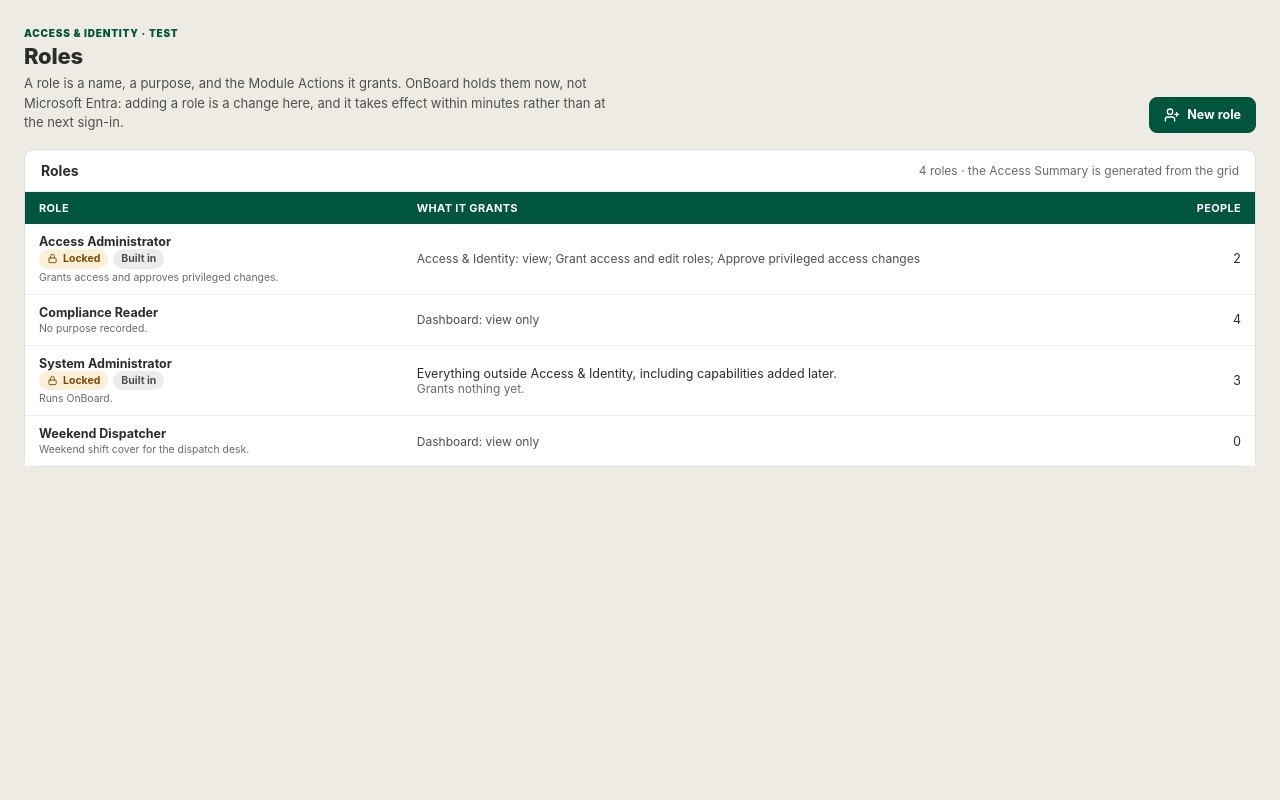
Roles › writes the access summary from the grid as the boxes are ticked
Click the button "Weekend Dispatcher": x=103, y=434 [39,426,166,441]
(page scrolled)
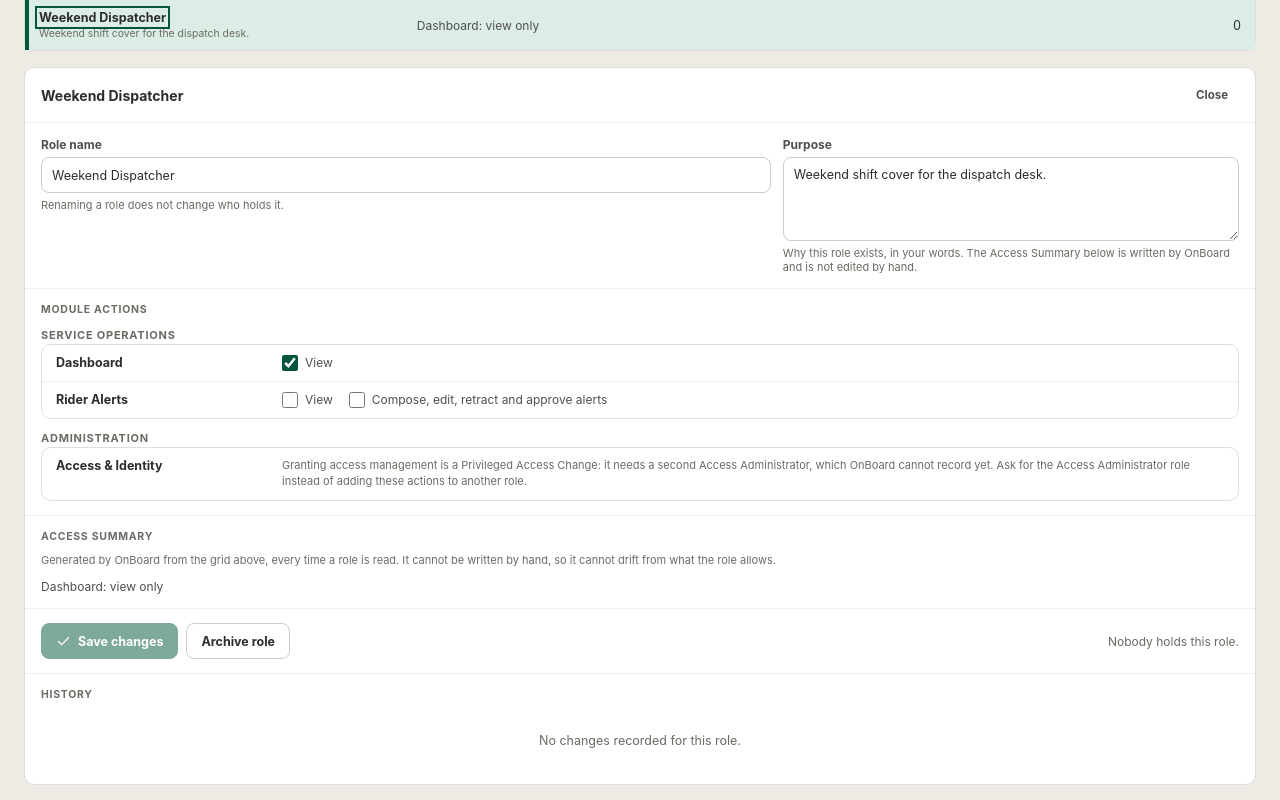
Now the list item "Dashboard: view only" below "Administration" is shown, box [41,579,163,594]
Click the checkbox labelled "View" next to "Rider Alerts": x=290, y=400 [282,392,298,408]
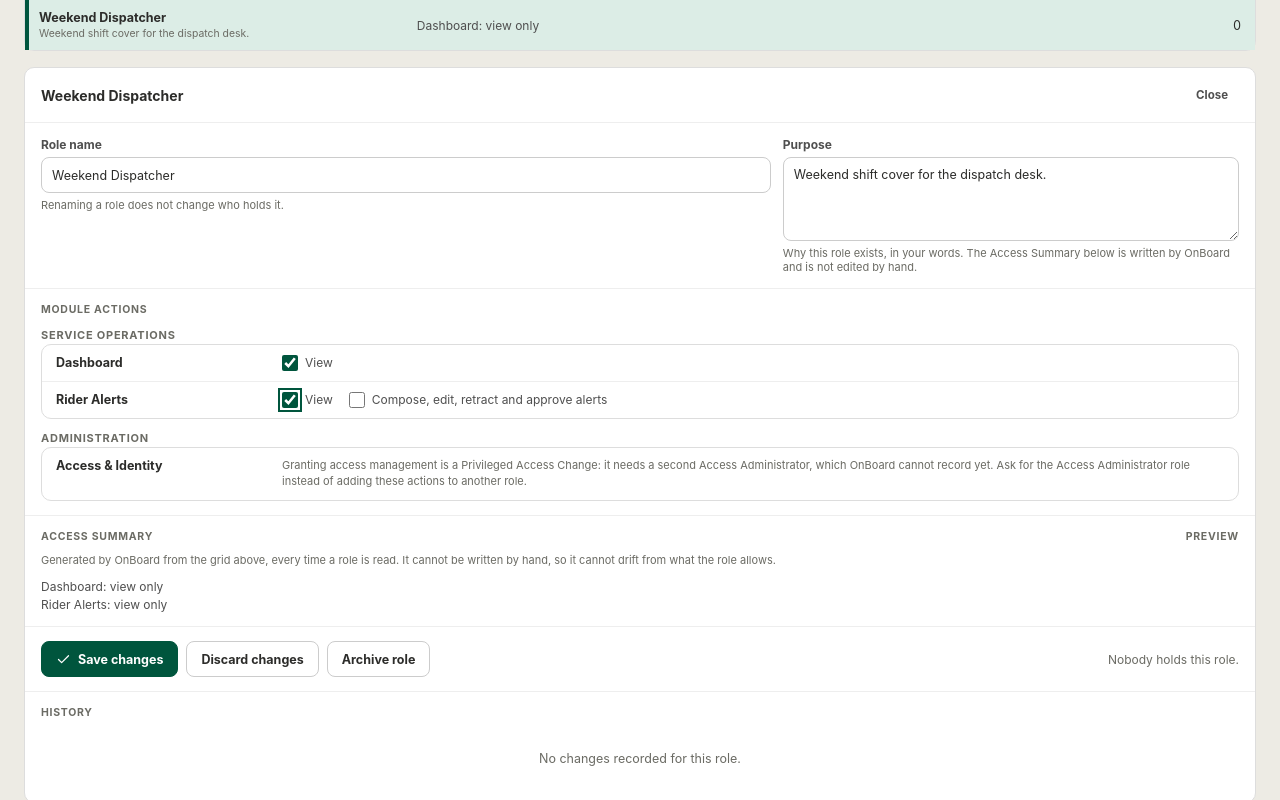
Now the list item "Rider Alerts: view only" is shown, box [41,597,167,612]
Click the checkbox labelled "Compose, edit, retract and approve alerts": x=357, y=400 [349,392,365,408]
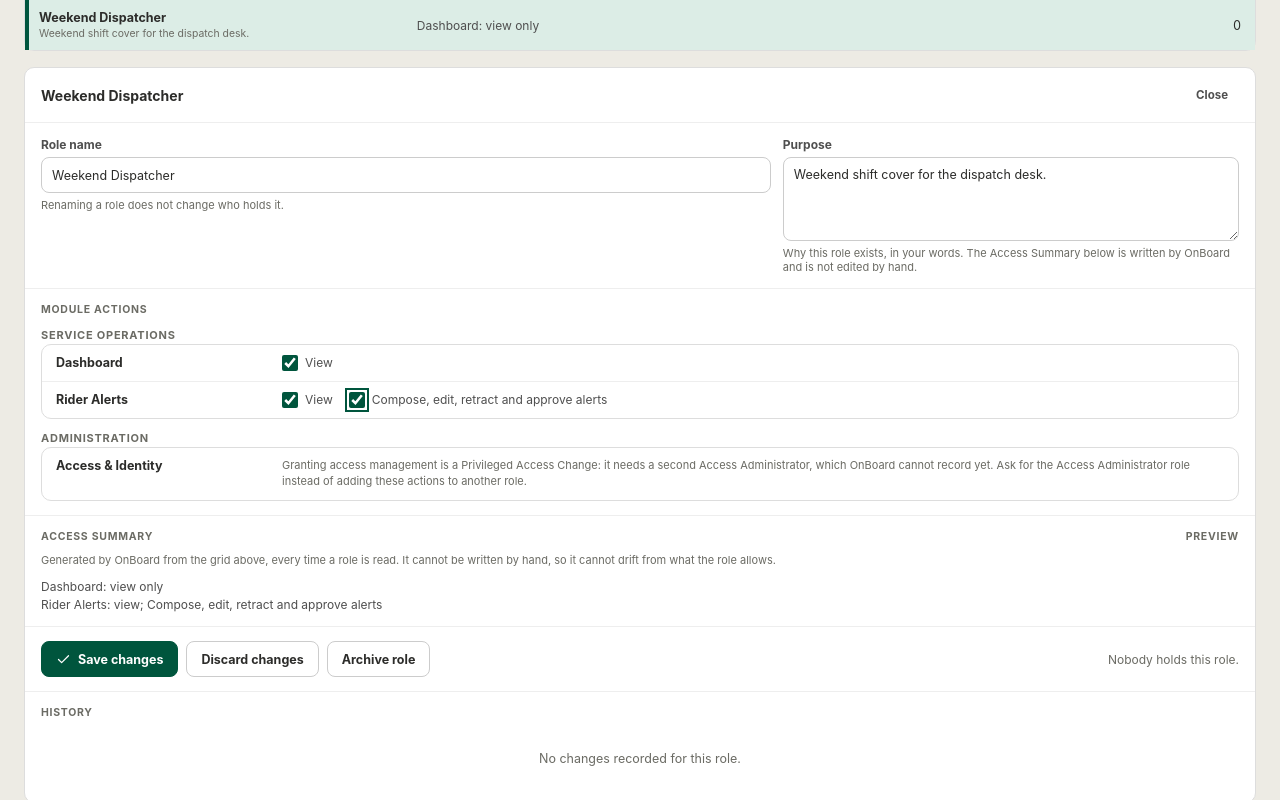
Now the list item "Rider Alerts: view; Compose, edit, retract and approve alerts" is shown, box [41,597,382,612]
Click the 2nd checkbox labelled "View": x=290, y=400 [282,392,298,408]
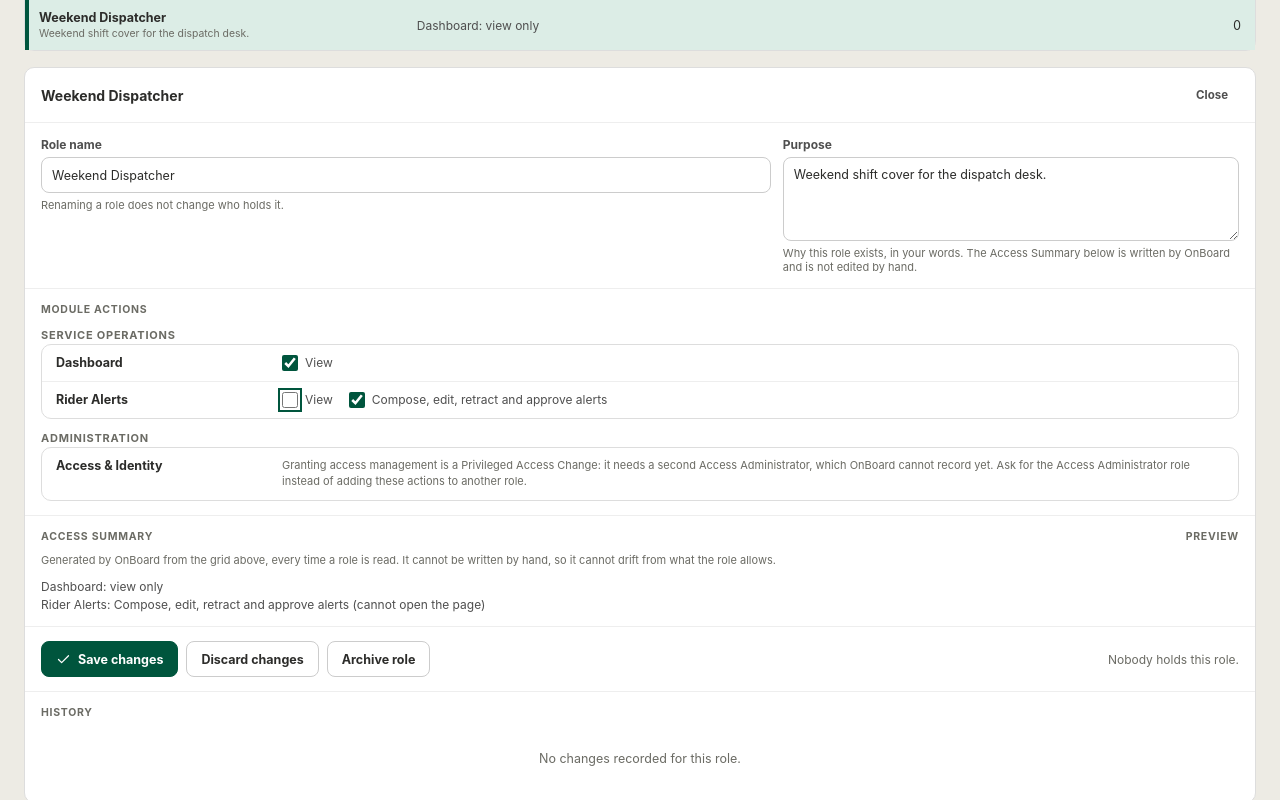
Now the list item "Rider Alerts: Compose, edit, retract and approve alerts (cannot open the page)" is shown, box [41,597,485,612]
